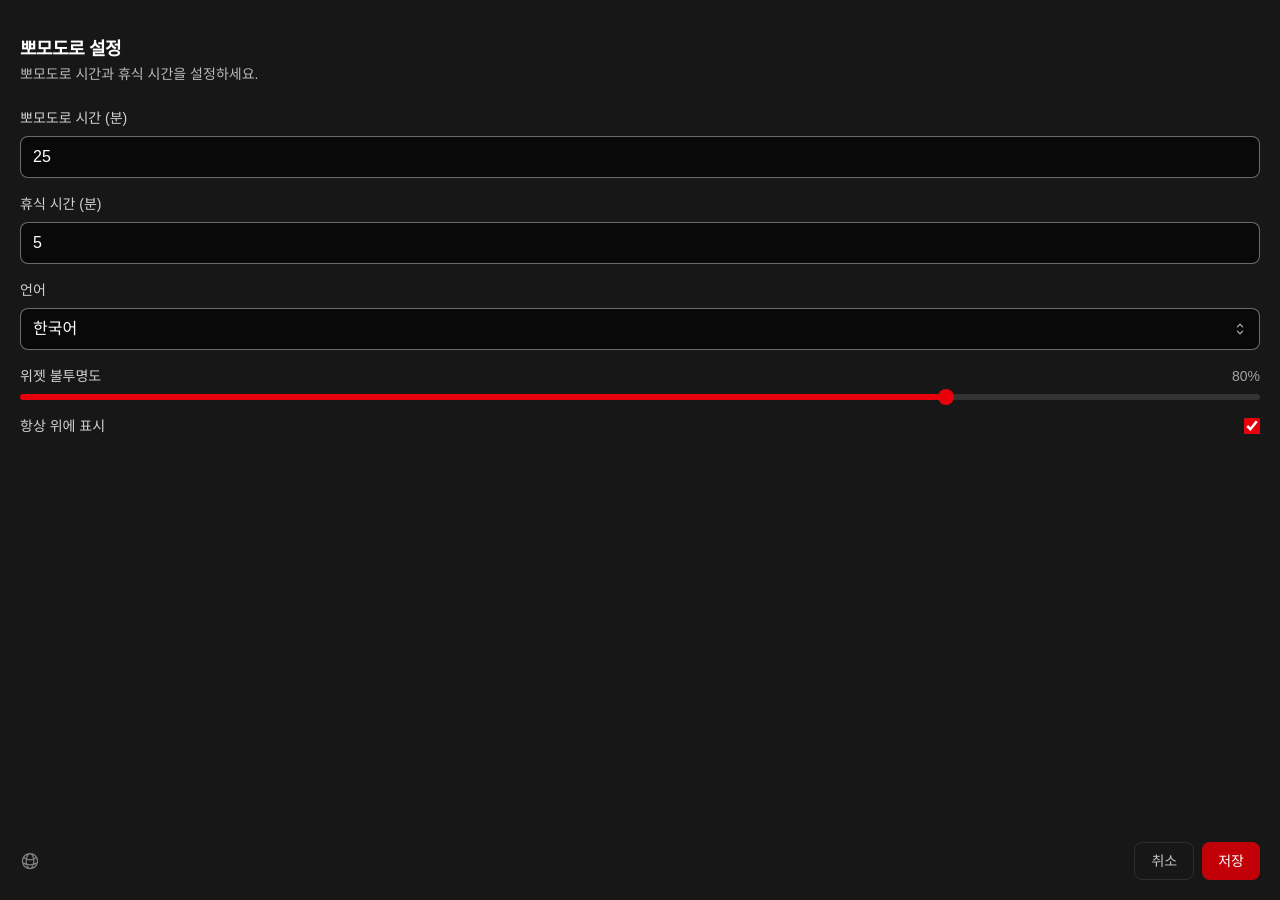
Test: 설정 창 › 언어를 고르면 저장 없이 바로 문구가 바뀐다
Select "English" in the dropdown labelled "언어": (640, 329) x1=20 y1=308 x2=1260 y2=350
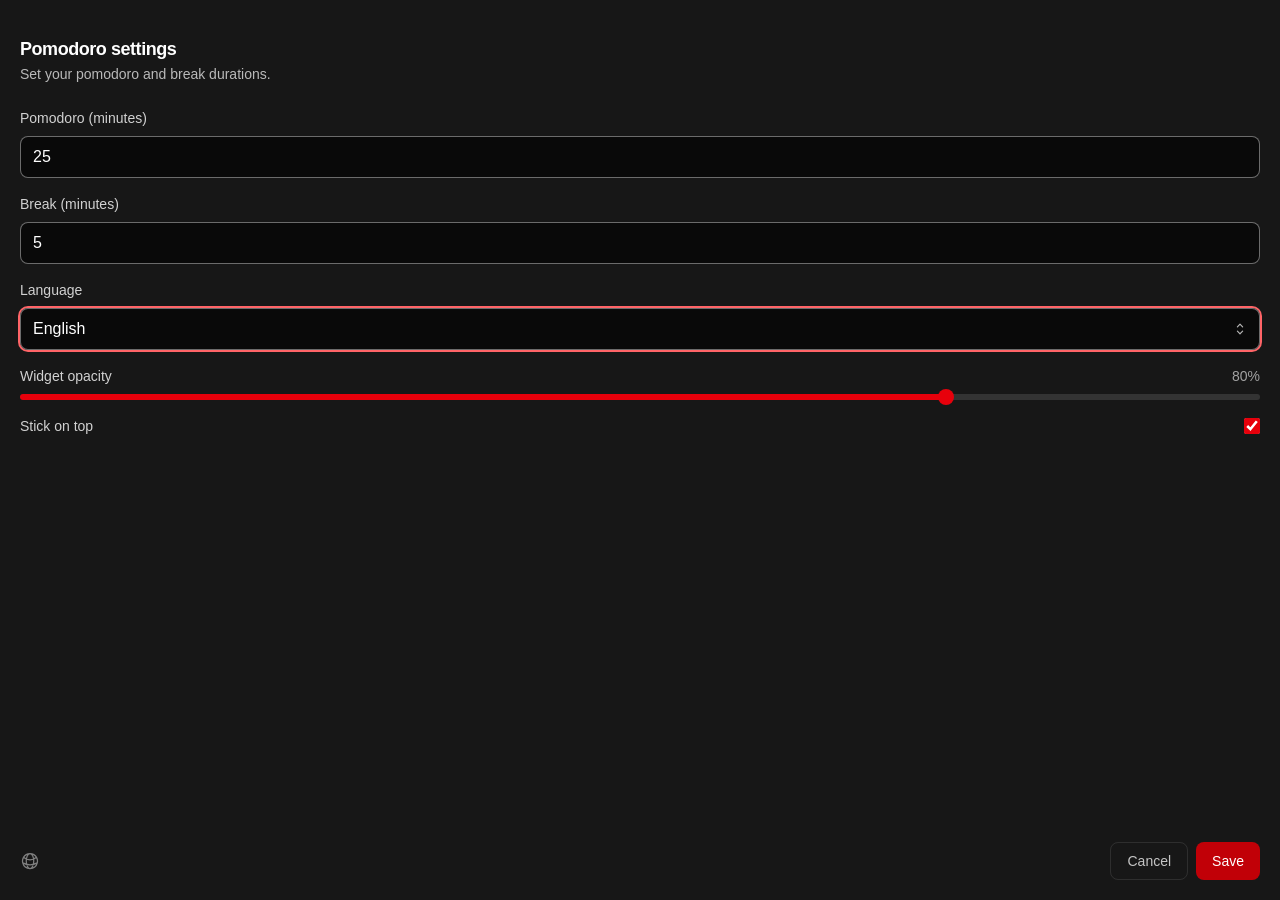
Check: the heading "Pomodoro settings" is shown, box x1=20 y1=39 x2=176 y2=59
